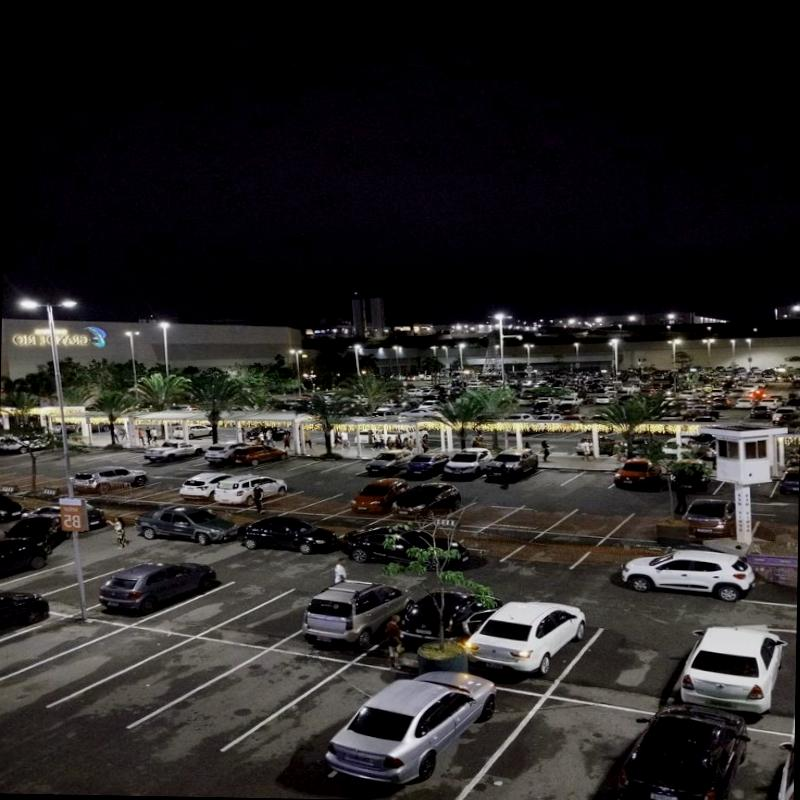license plate on a car: (334, 754, 377, 768), (647, 793, 678, 800), (408, 628, 434, 635), (316, 634, 332, 641)
